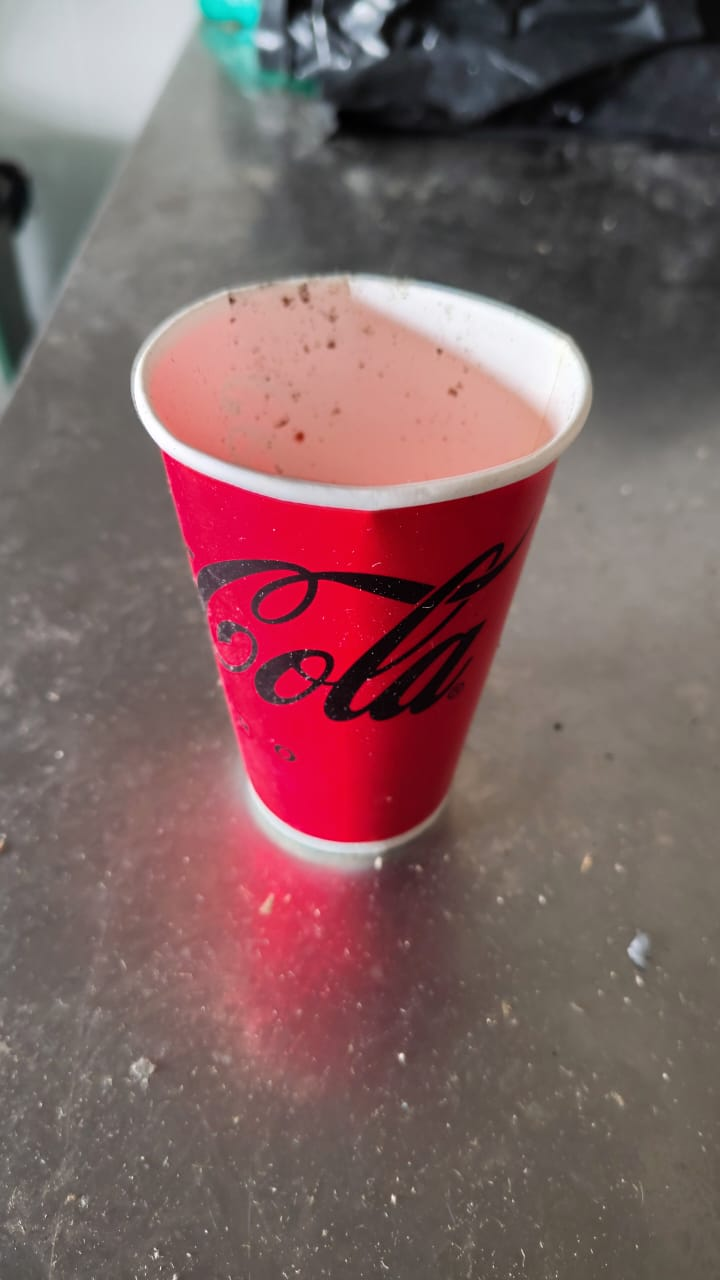Carton: (129, 275, 593, 850)
